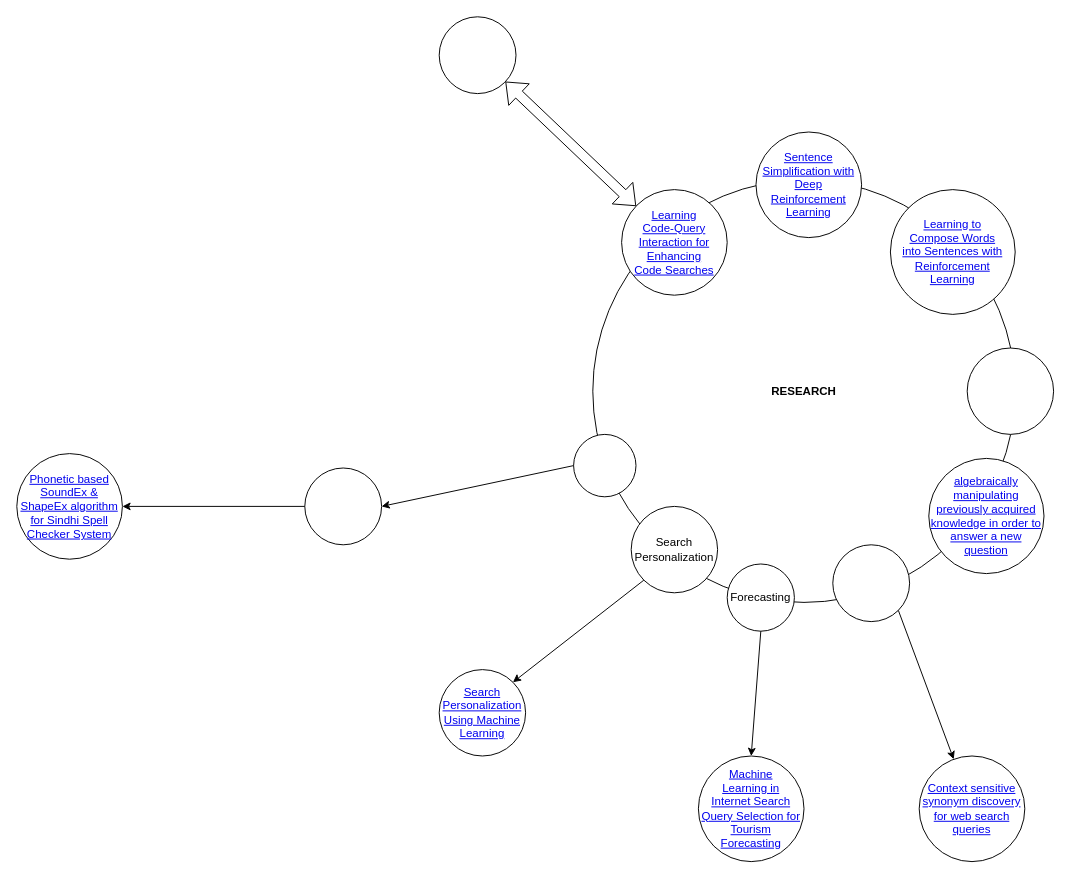
The diagram is 1070 pixels wide and 878 high, and some of its shapes have lost their labels. Each missing label, with the centre of its shape:
"Deep learning for sentence classification" goes at (x=1010, y=390).
"Fuzzy String Searching" goes at (x=343, y=506).
"Search Algorithms" goes at (x=604, y=465).
"Synonyms" goes at (x=871, y=583).
"When deep learning met code search" goes at (x=477, y=55).
